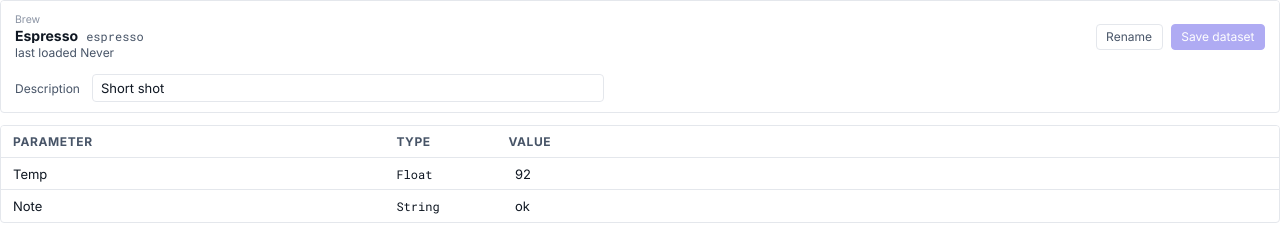
Test: RecipeTable — dataset values › reports a failed save in the header
The width and height of the screenshot is (1280, 240).
Replace the text in the field showing "Short shot" next to "Description" with "Long shot" at coordinates (348, 88), box [92,74,604,102]
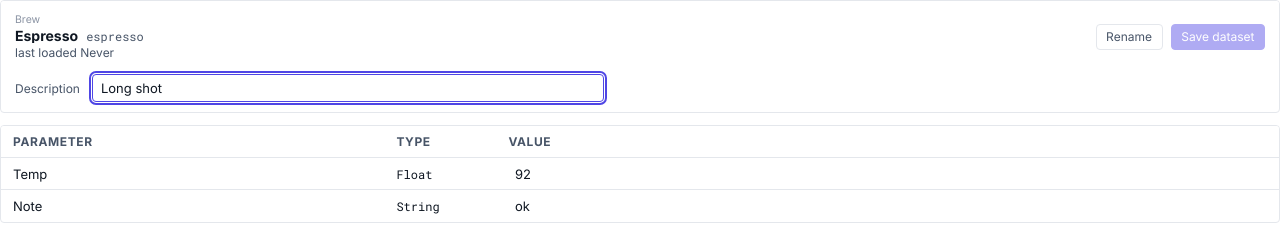
Press Tab
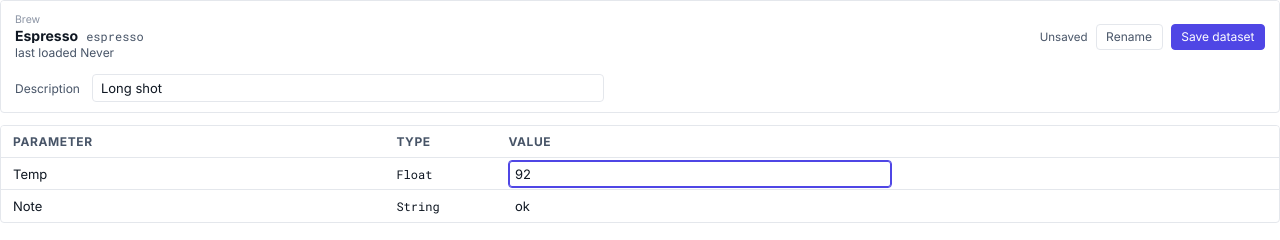
Click the button "Save dataset" at coordinates (1218, 37), box [1171,24,1265,50]
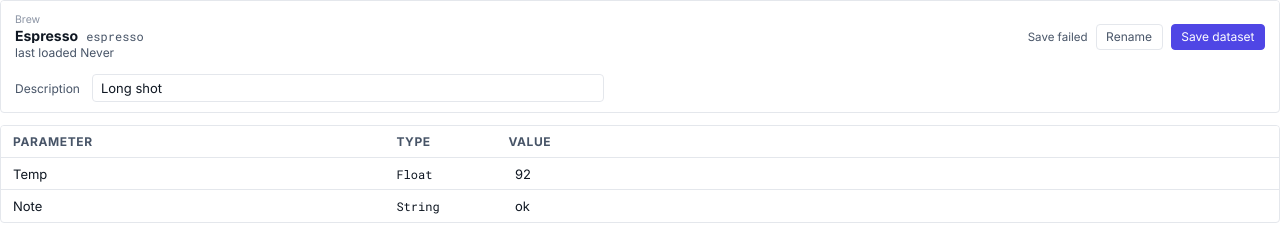
Check: the text "Save failed" is shown, box [1028,30,1088,44]
